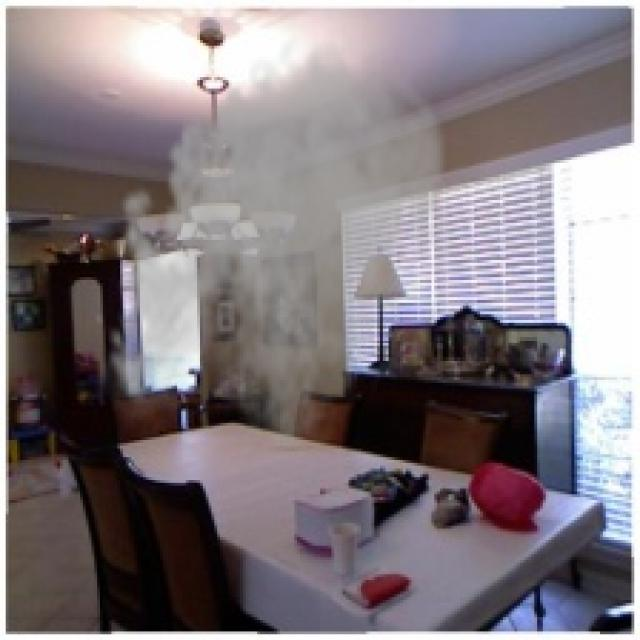smoke: (97, 29, 454, 452)
